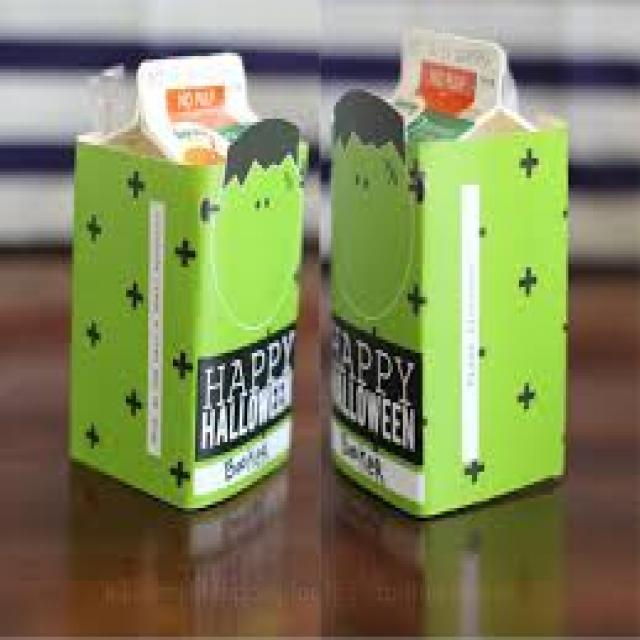non_white_jug: (324, 18, 583, 526), (55, 33, 308, 518)
